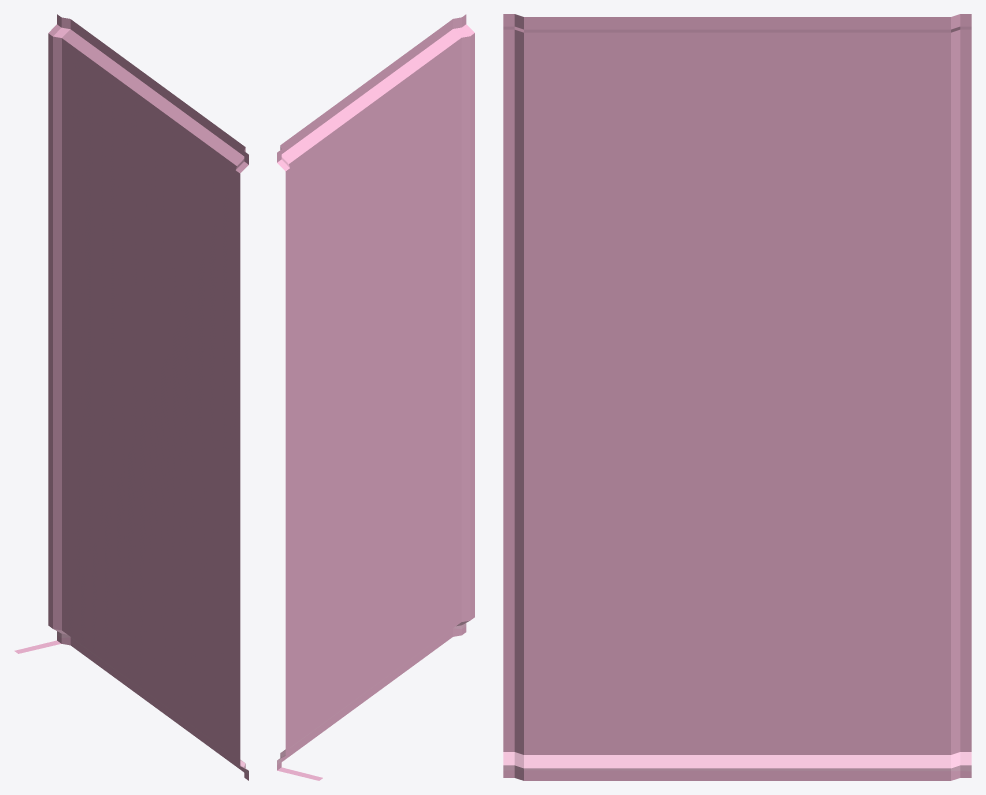
File: WallPanel_Joining.fbx
3 views of the same model, side by side, from view 1: azimuth 30°, elevation 25°; view 2: azimuth 150°, elevation 25°; view 3: azimuth 270°, elevation 25° (orthographic). The views are drawn at different scales.
Visible parts, largest first — view 1: JoiningPanel1; view 2: JoiningPanel1; view 3: JoiningPanel1.
Part boxes in pixels (box(x1,y1,x2,y2)): JoiningPanel1: box(14, 14, 248, 780); JoiningPanel1: box(277, 14, 474, 780); JoiningPanel1: box(503, 14, 971, 780).
Size of the model in its own units: 28.83 by 360 by 200.
1 material, 1 textured.
